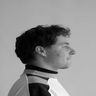ear: (31, 43, 50, 61)
